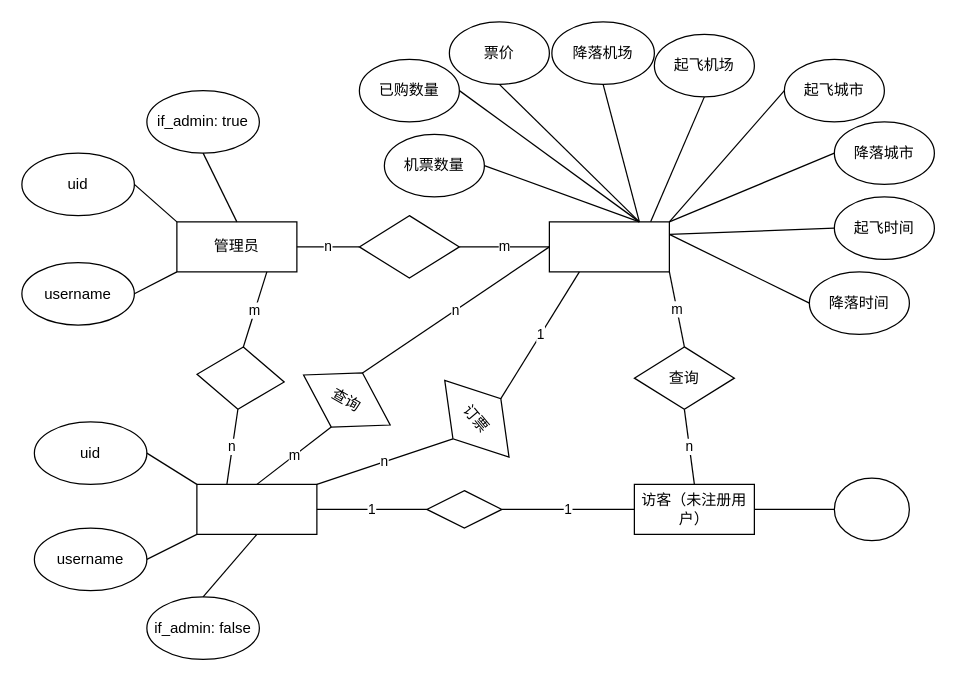
This 956x681 diagram has some shape labels left out. Here are the shapes that lost their labels. From the top down, the centre of each, then its label:
At point (408, 246): "管理航班".
At point (608, 246): "航班".
At point (240, 377): "管理用户".
At point (256, 508): "用户".
At point (464, 508): "注册".
At point (871, 509): "temp_id".
